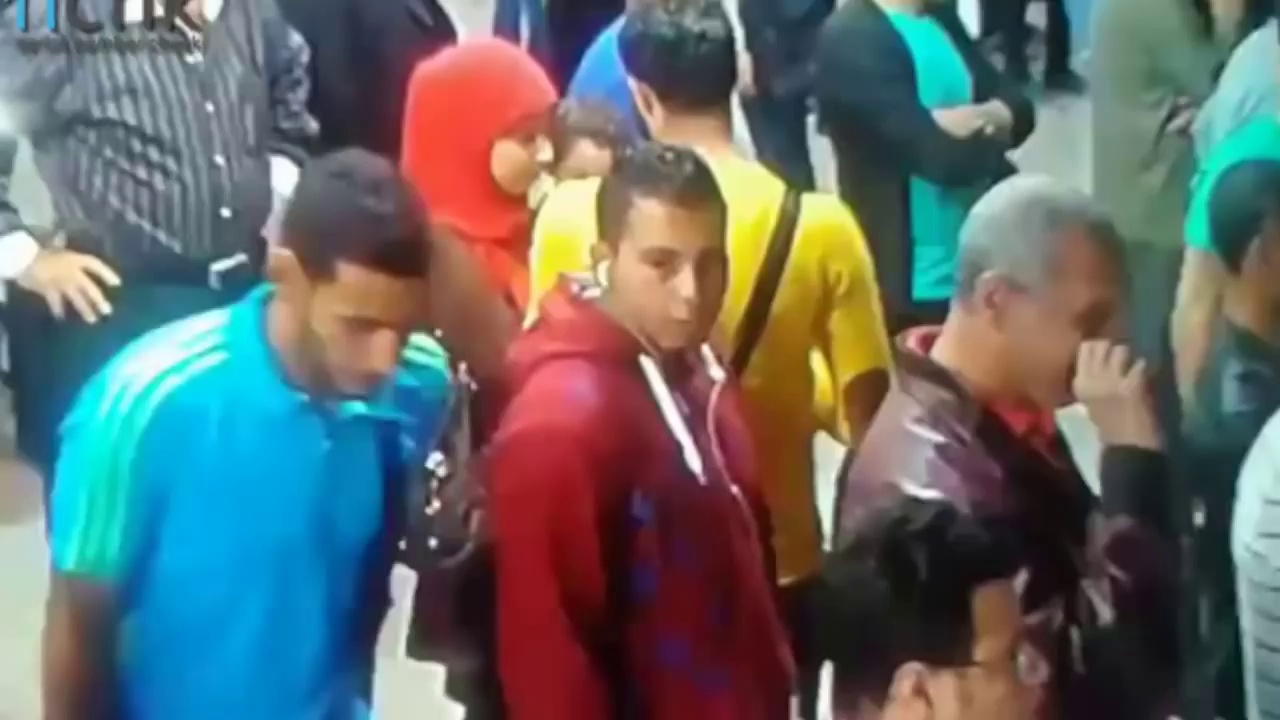face: (997, 243, 1135, 408), (926, 584, 1062, 720), (608, 205, 731, 350), (293, 262, 411, 408), (482, 104, 557, 203)
